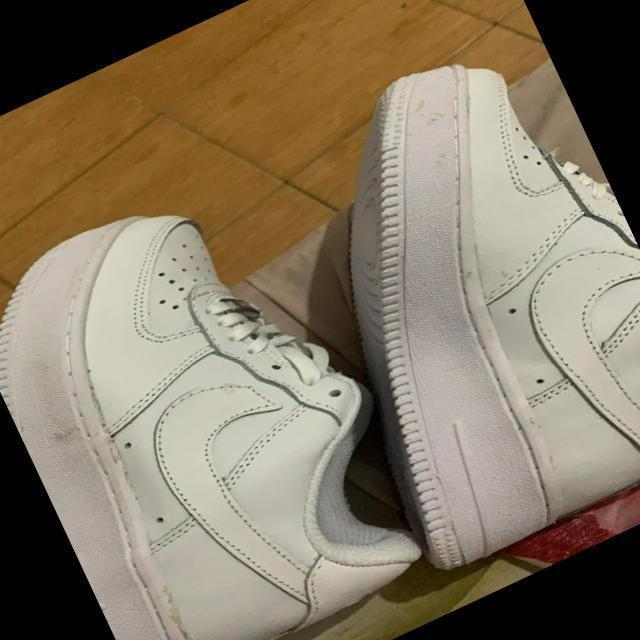nike original air force: (234, 14, 640, 581), (0, 148, 451, 640)
